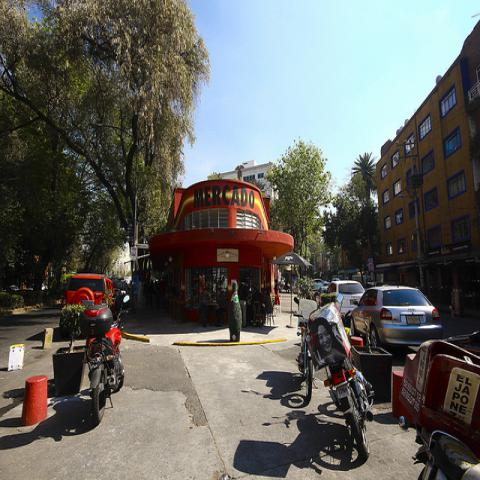car: (349, 283, 442, 345), (62, 271, 114, 307), (322, 281, 366, 317), (306, 283, 325, 301)
motorcycle: (80, 307, 132, 425), (325, 364, 375, 463), (415, 428, 463, 475)
